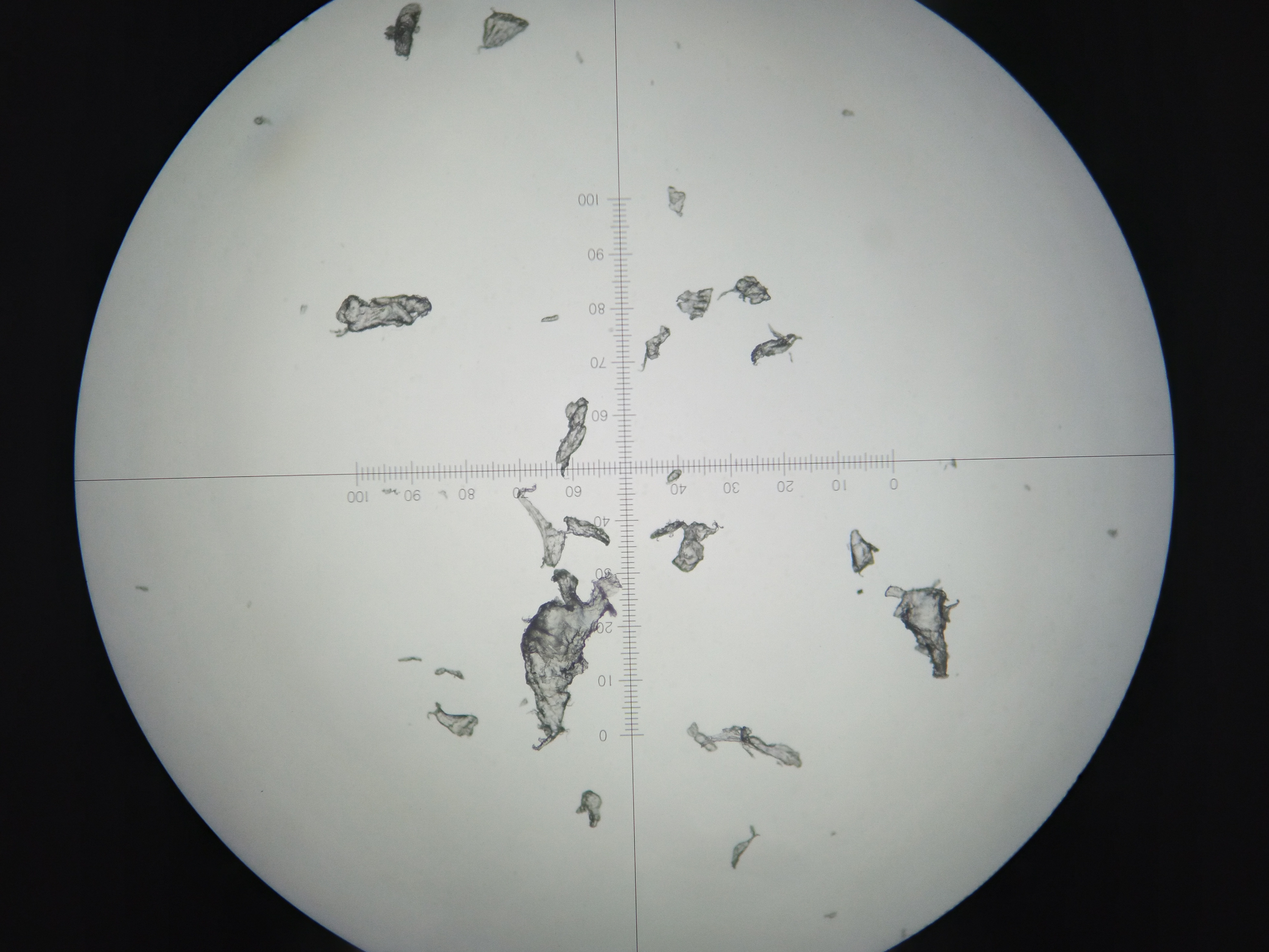microplastic: (517, 567, 622, 752), (515, 485, 614, 568), (882, 582, 958, 684), (684, 721, 803, 772), (329, 290, 434, 344), (649, 518, 729, 579), (475, 3, 539, 57), (378, 2, 431, 61), (745, 323, 807, 371), (552, 398, 588, 479), (425, 702, 480, 742), (716, 272, 773, 310), (847, 523, 880, 581), (730, 823, 763, 873), (640, 324, 671, 375), (675, 286, 714, 323), (576, 787, 608, 831), (665, 182, 694, 225), (433, 663, 466, 687), (397, 655, 425, 665), (542, 313, 562, 324)
